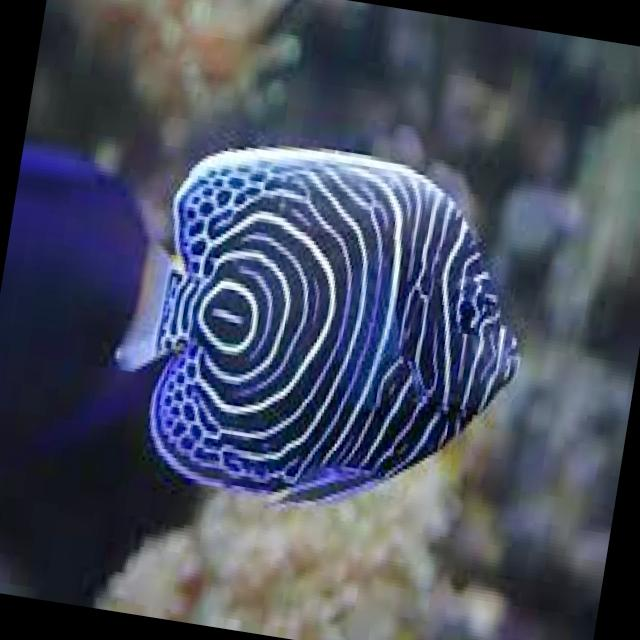AngelFish: (97, 120, 547, 542)
